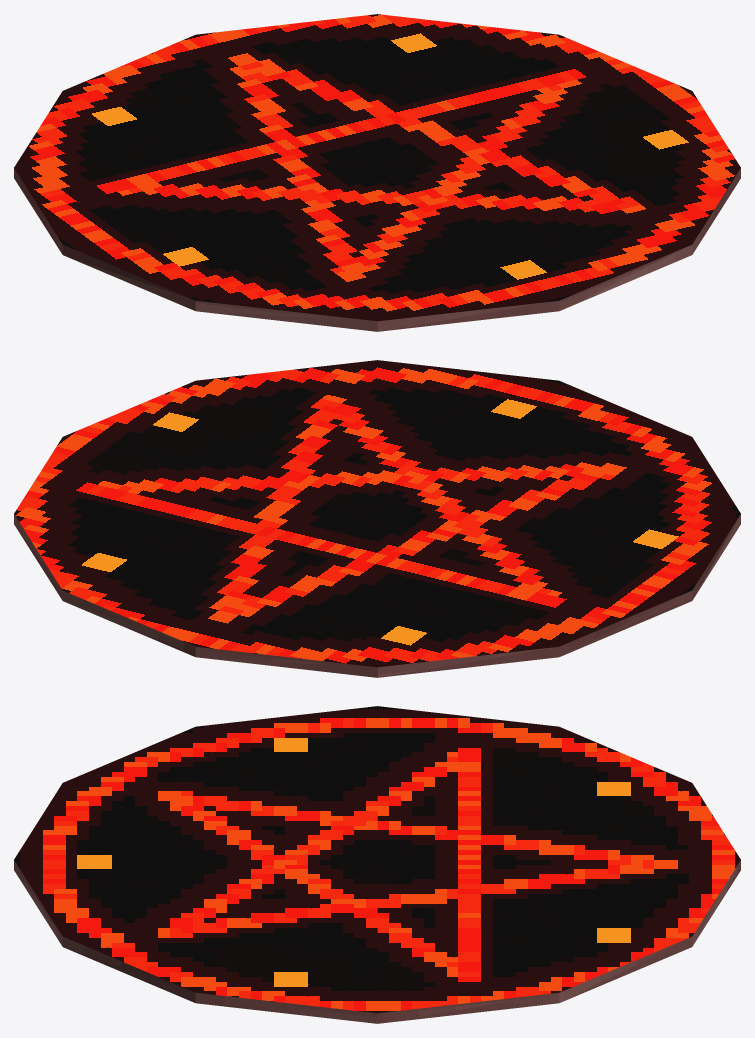
File: demon_pad.glb
3 views of the same model, one above another, from view 1: azimuth 30°, elevation 25°; view 2: azimuth 150°, elevation 25°; view 3: azimuth 270°, elevation 25° (orthographic).
Parts seen in each view (by area): view 1: DemonPad; view 2: DemonPad; view 3: DemonPad.
Boxes of the visible parts, bbox=[...] form: DemonPad: bbox=[14, 14, 740, 331]; DemonPad: bbox=[14, 360, 740, 677]; DemonPad: bbox=[14, 706, 740, 1023].
Size of what is drawn, in the model's own units: 2.5 by 0.04 by 2.5.
2 materials, 2 textured.
